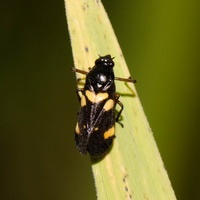insect: (75, 55, 133, 161)
